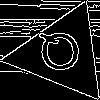Q: (37, 28, 85, 81)
